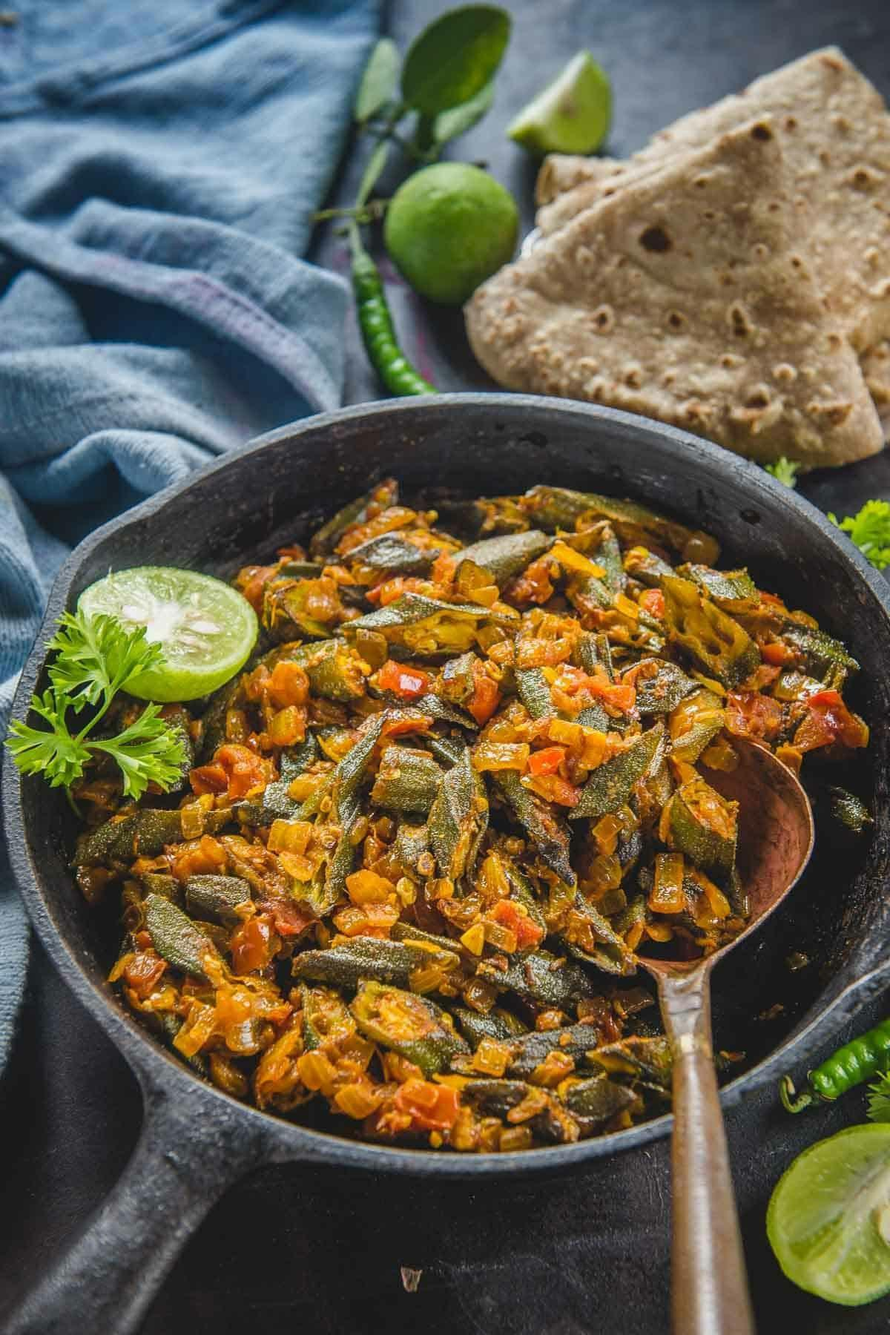BhindiMasala: (73, 474, 868, 1152)
